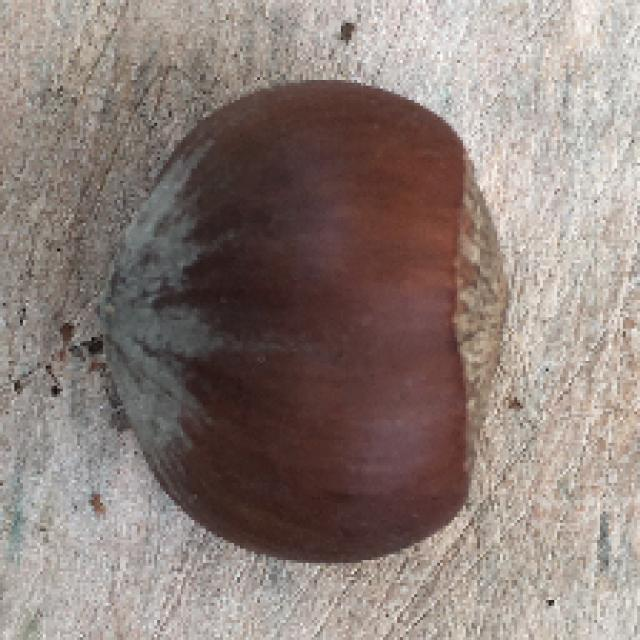qualityHazelnut: (96, 68, 508, 570)
